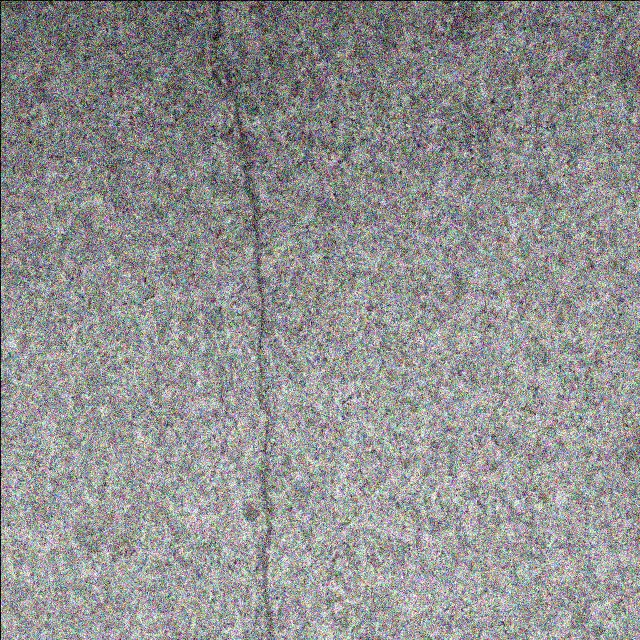SurfaceCrack: (165, 0, 328, 639)
